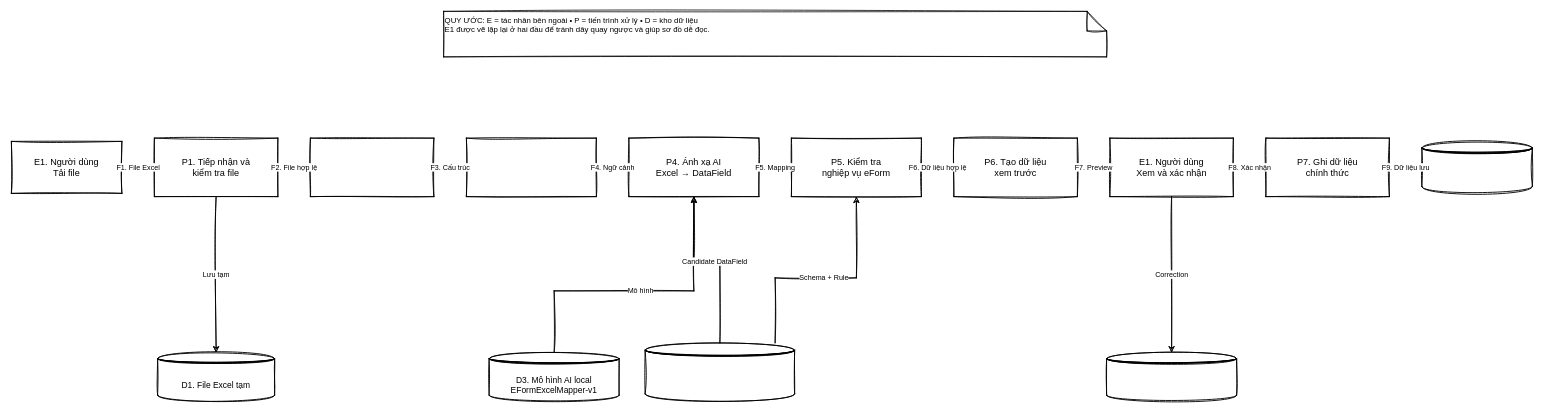
The diagram is 1544 pixels wide and 413 high, and some of its shapes have lost their labels. Each missing label, with the box of its shape:
D2. Schema eForm DocType • DataField • Template: (644, 342, 795, 402)
D4. MySQL eForm: (1421, 141, 1533, 194)
D5. Phản hồi mapping đã xác minh: (1106, 352, 1237, 402)
P2. Phân tích cấu trúc Excel: (310, 137, 434, 197)
P3. Tạo ngữ cảnh phân cấp: (466, 137, 597, 197)
